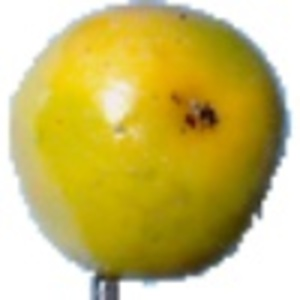maracujá: (7, 1, 295, 300)
